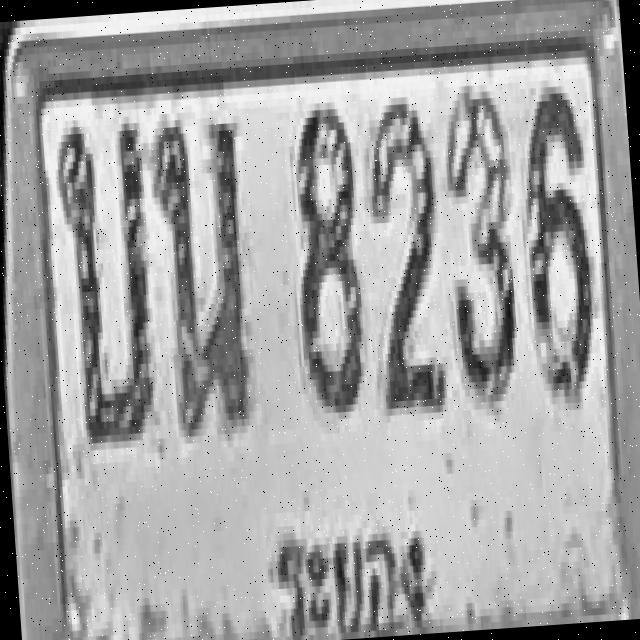2: (356, 66, 454, 447)
3: (431, 62, 534, 448)
34NorNu: (146, 90, 264, 472)
35BorBaiMai: (44, 100, 169, 450)
6: (508, 56, 606, 451)
8: (272, 76, 380, 442)
Rayong: (244, 467, 441, 640)
